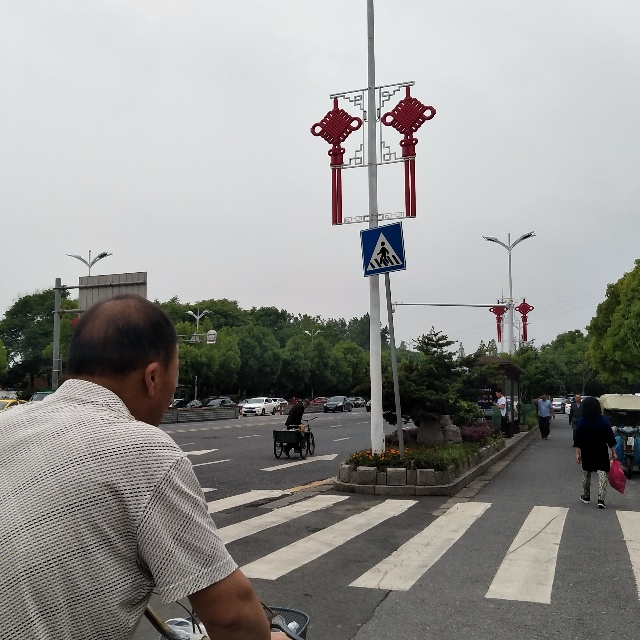crosswalk: (363, 225, 399, 277)
